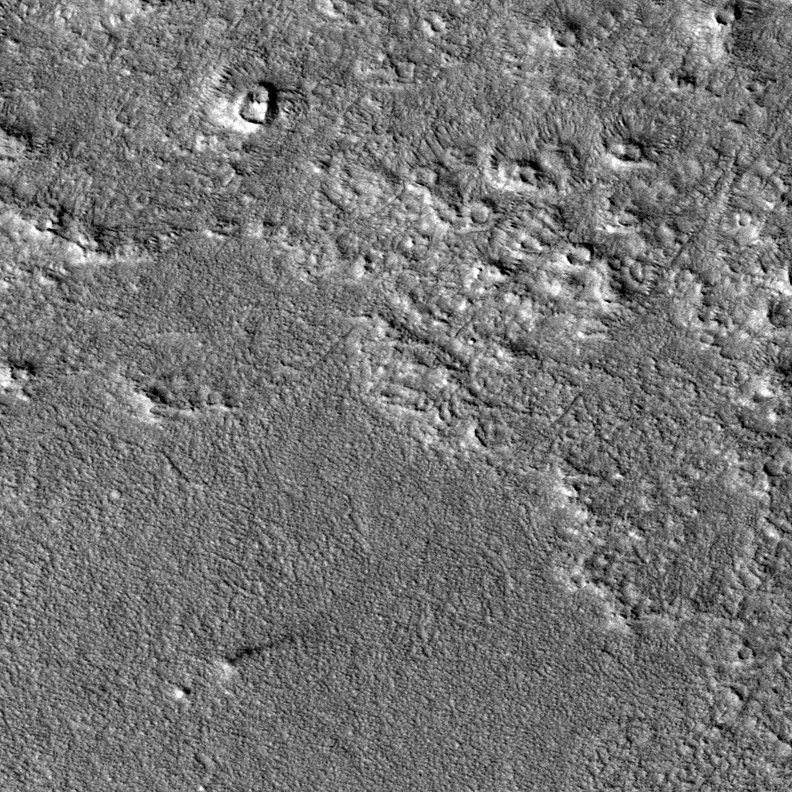dust_devil: (211, 630, 305, 681)
